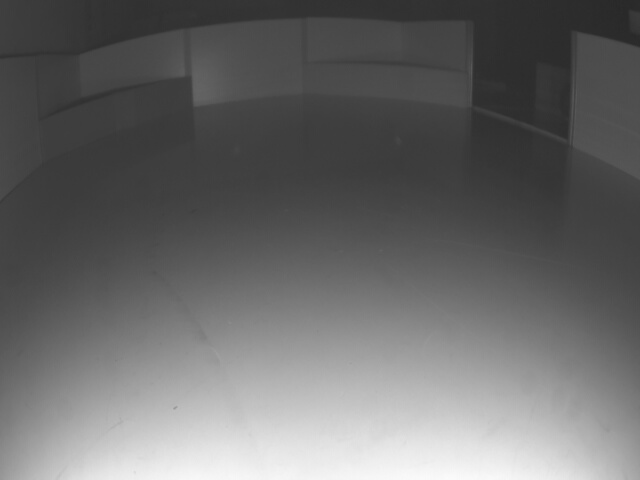Point: (42, 77, 194, 165), (303, 60, 468, 110)
